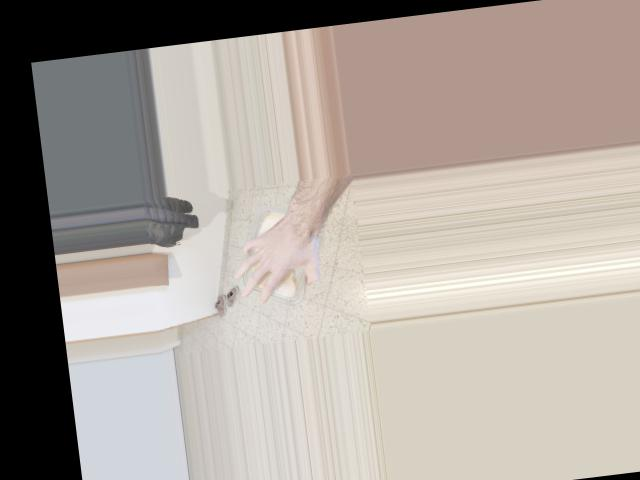cheese: (229, 204, 332, 308)
